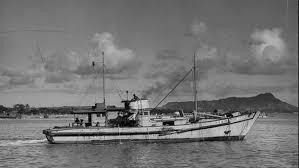fishing boat: (41, 48, 261, 147)
